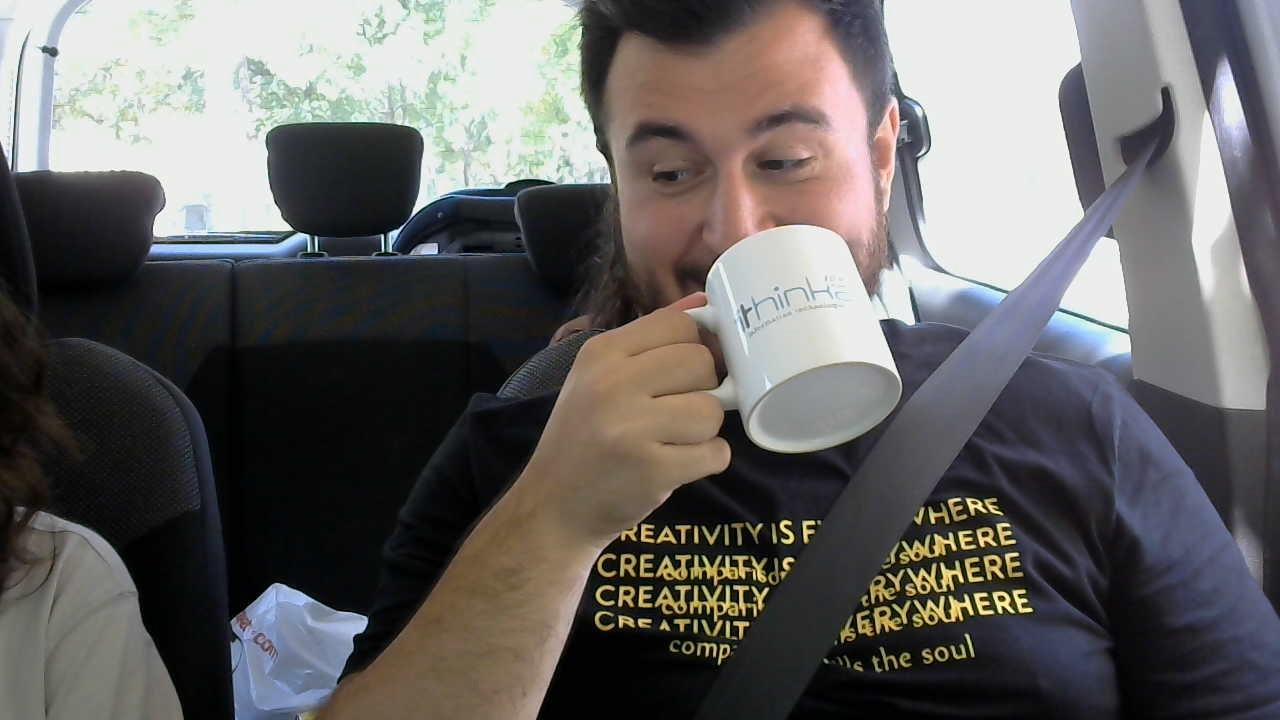Drinking: (581, 1, 903, 451)
